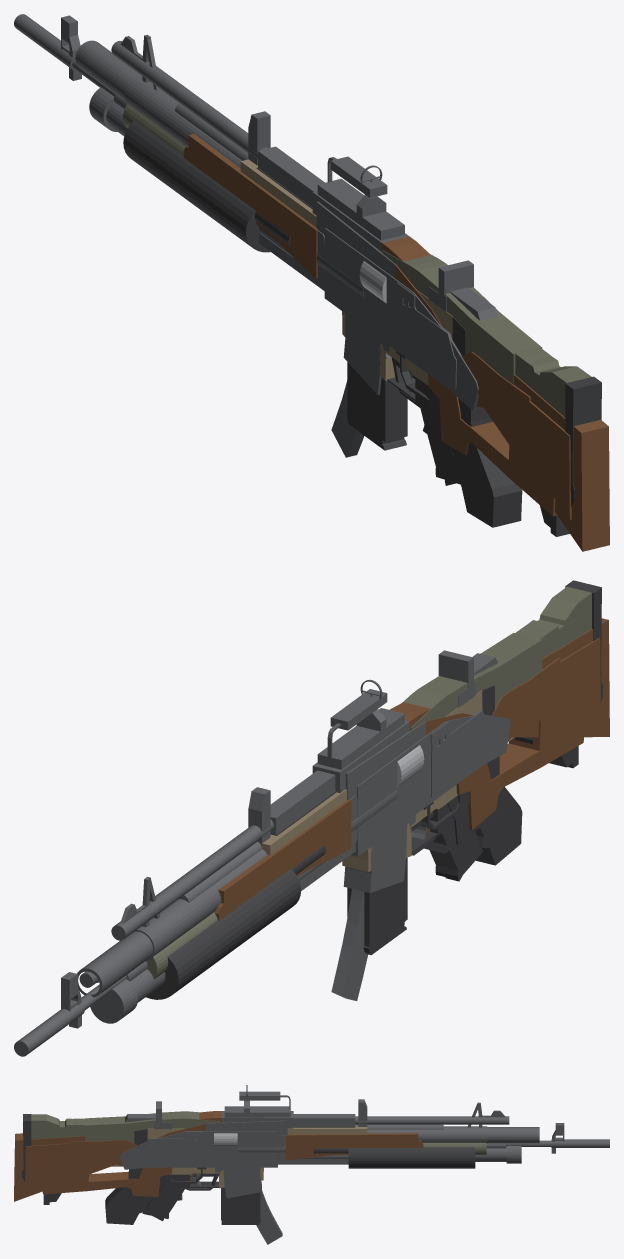
Rendered from pack-guns.glb.
3 views of the same model, one above another, from view 1: azimuth 30°, elevation 25°; view 2: azimuth 150°, elevation 25°; view 3: azimuth 270°, elevation 25° (orthographic). The views are drawn at different scales.
Parts seen in each view (by area): view 1: pump-body, hunting-body, svd-body, m60-body, scar-body, mp5-body, scar_Magazine, svd_Magazine, mp5_Magazine, revolver-body; view 2: pump-body, hunting-body, svd-body, m60-body, scar-body, mp5-body, scar_Magazine, mp5_Magazine, svd_Magazine, revolver-body; view 3: pump-body, hunting-body, svd-body, m60-body, scar-body, mp5-body, scar_Magazine, svd_Magazine, mp5_Magazine, revolver-body.
Part boxes in pixels (x1,y1,x2,y2): pump-body: (75,40,522,527); hunting-body: (111,36,609,551); svd-body: (14,14,557,516); m60-body: (123,34,601,506); scar-body: (114,94,569,536); mp5-body: (248,111,497,485); scar_Magazine: (346,362,407,450); svd_Magazine: (343,314,381,394); mp5_Magazine: (331,380,364,457); revolver-body: (359,261,386,303); pump-body: (77,714,522,1023); hunting-body: (111,618,609,940); svd-body: (14,658,584,1056); m60-body: (79,580,603,987); scar-body: (126,650,578,981); mp5-body: (248,653,533,881); scar_Magazine: (347,857,407,955); mp5_Magazine: (331,889,368,1000); svd_Magazine: (343,821,407,892); revolver-body: (397,745,429,833); pump-body: (105,1126,539,1224); hunting-body: (14,1085,509,1201); svd-body: (42,1123,609,1196); m60-body: (21,1091,486,1190); scar-body: (43,1101,505,1218); mp5-body: (88,1099,367,1221); scar_Magazine: (221,1187,260,1224); svd_Magazine: (223,1167,261,1198); mp5_Magazine: (256,1190,282,1244); revolver-body: (190,1133,237,1185).
Size of the model in its own units: 0.071 by 0.3731 by 1.28.
